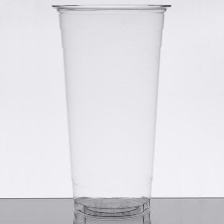glass: (28, 0, 175, 224)
